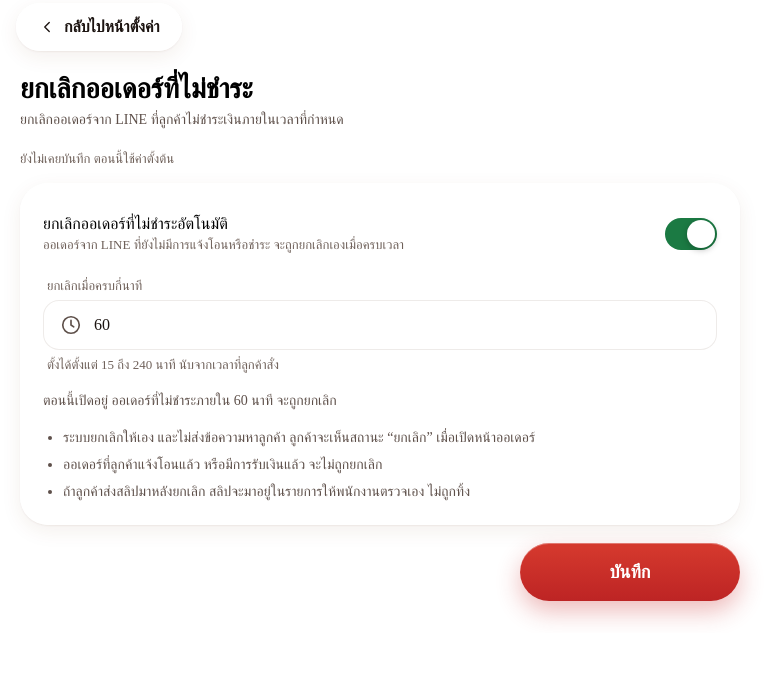
it: cancelling unpaid LINE orders › saving with no change sends nothing
The width and height of the screenshot is (767, 700).
What coordinates should you click on to do the following:
click the button "บันทึก"
I would click on:
 (630, 572)
Its box is [520,543,740,601].
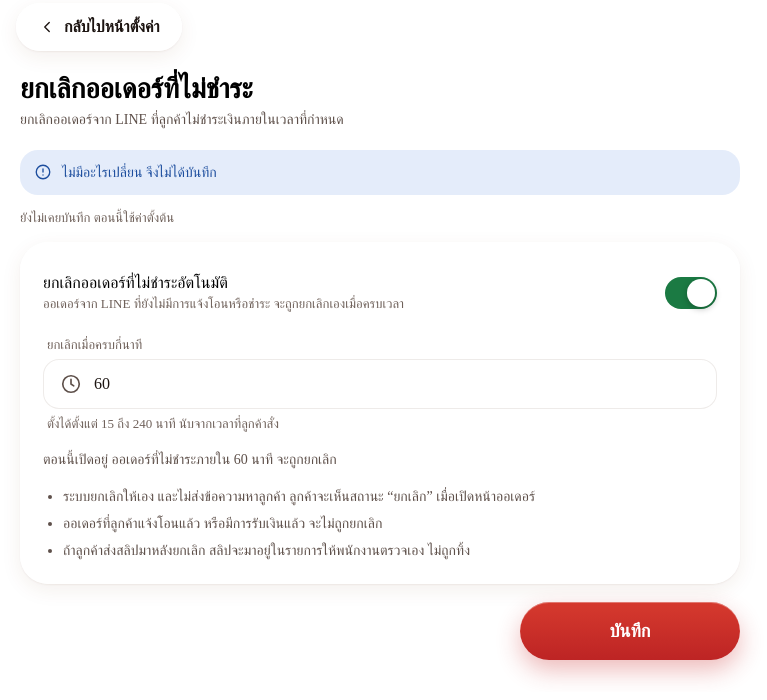
Expected: the text "ไม่มีอะไรเปลี่ยน จึงไม่ได้บันทึก" is shown, [62,165,217,180]
